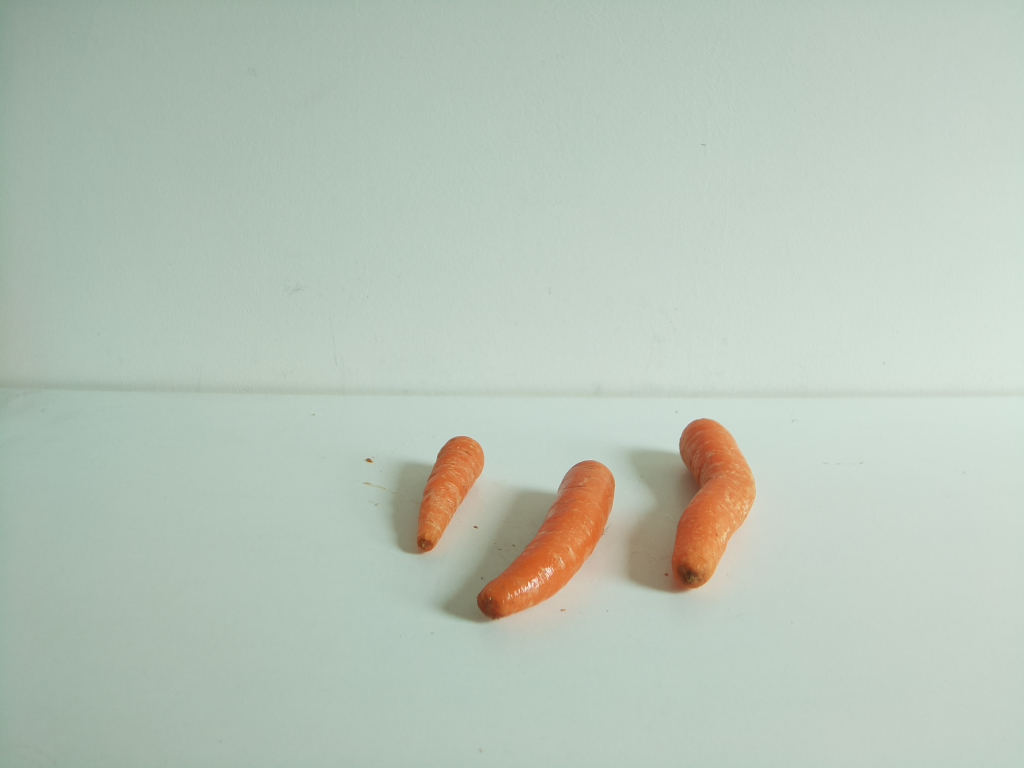carrot: (470, 454, 615, 624), (666, 414, 759, 598), (415, 433, 487, 554)
